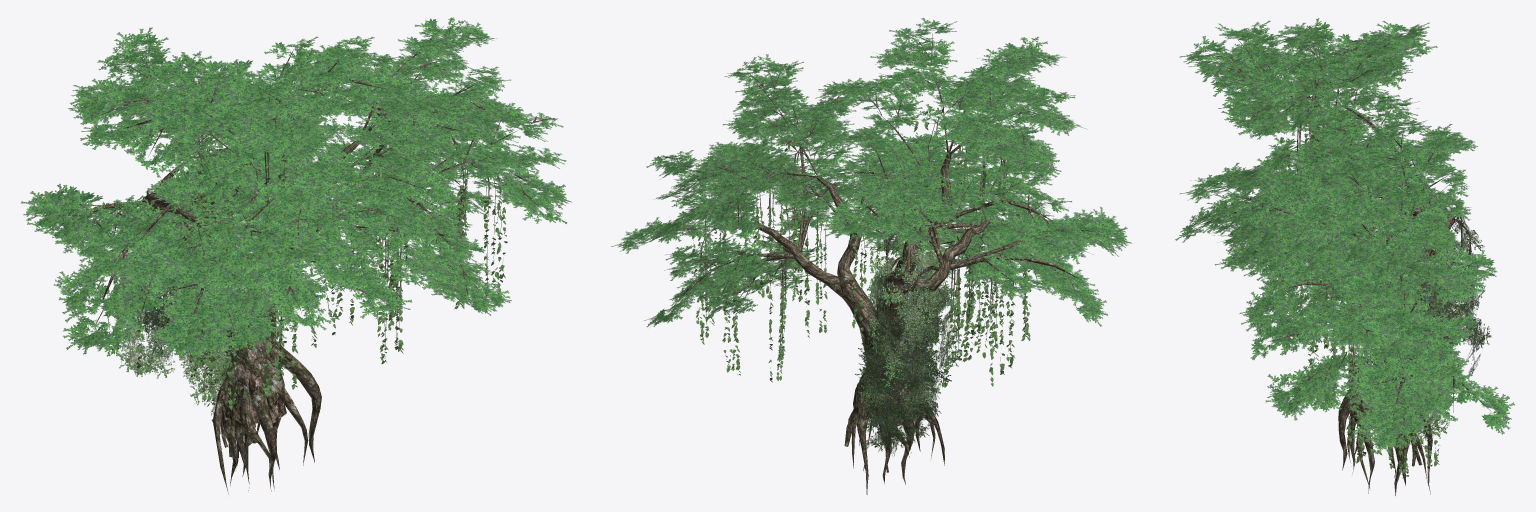
Rendered from Big_tree_03_ivy.glb.
3 renders of one model, left to right at view 1: azimuth 30°, elevation 25°; view 2: azimuth 150°, elevation 25°; view 3: azimuth 270°, elevation 25°, orthographic. The views are drawn at different scales.
Visible parts, largest first — view 1: Big_tree_03_ivy; view 2: Big_tree_03_ivy; view 3: Big_tree_03_ivy.
Part boxes in pixels (x1,y1,x2,y2): Big_tree_03_ivy: (21, 17, 571, 494); Big_tree_03_ivy: (611, 18, 1131, 494); Big_tree_03_ivy: (1175, 18, 1514, 495).
Size of the model in its own units: 33.29 by 27.09 by 19.55.
Materials: 5 (5 with a texture image).
